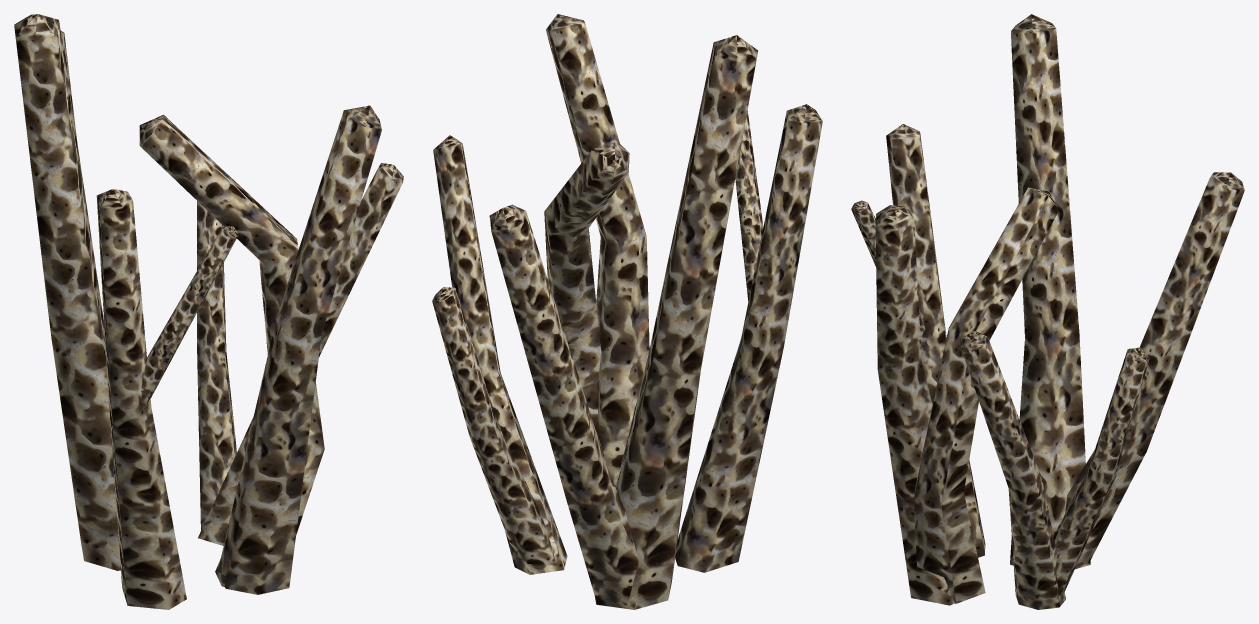
The model's file is CoralStone-06_LOD1.fbx.
The picture shows the model from 3 angles, left to right: view 1: azimuth 30°, elevation 25°; view 2: azimuth 150°, elevation 25°; view 3: azimuth 270°, elevation 25°; orthographic projection. The views are drawn at different scales.
Parts seen in each view (by area): view 1: CoralStone-06_medium; view 2: CoralStone-06_medium; view 3: CoralStone-06_medium.
Boxes of the visible parts, x1,y1,x2,y2 form: CoralStone-06_medium: (14,14,403,609); CoralStone-06_medium: (432,14,822,609); CoralStone-06_medium: (851,14,1244,609).
Size of the model in its own units: 0.2587 by 0.3984 by 0.2817.
